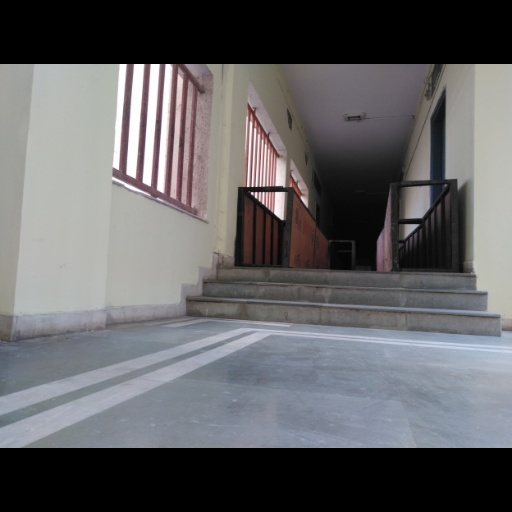Stairs: (187, 268, 501, 336)
